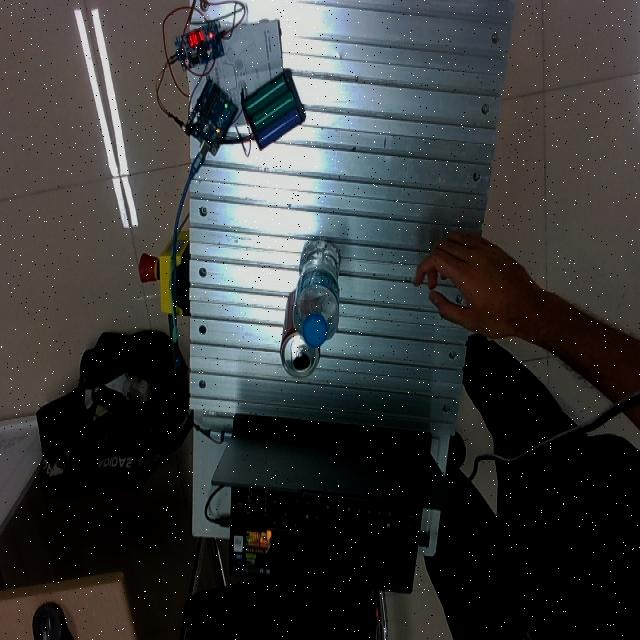coca: (279, 287, 320, 380)
lavie: (292, 240, 341, 349)
